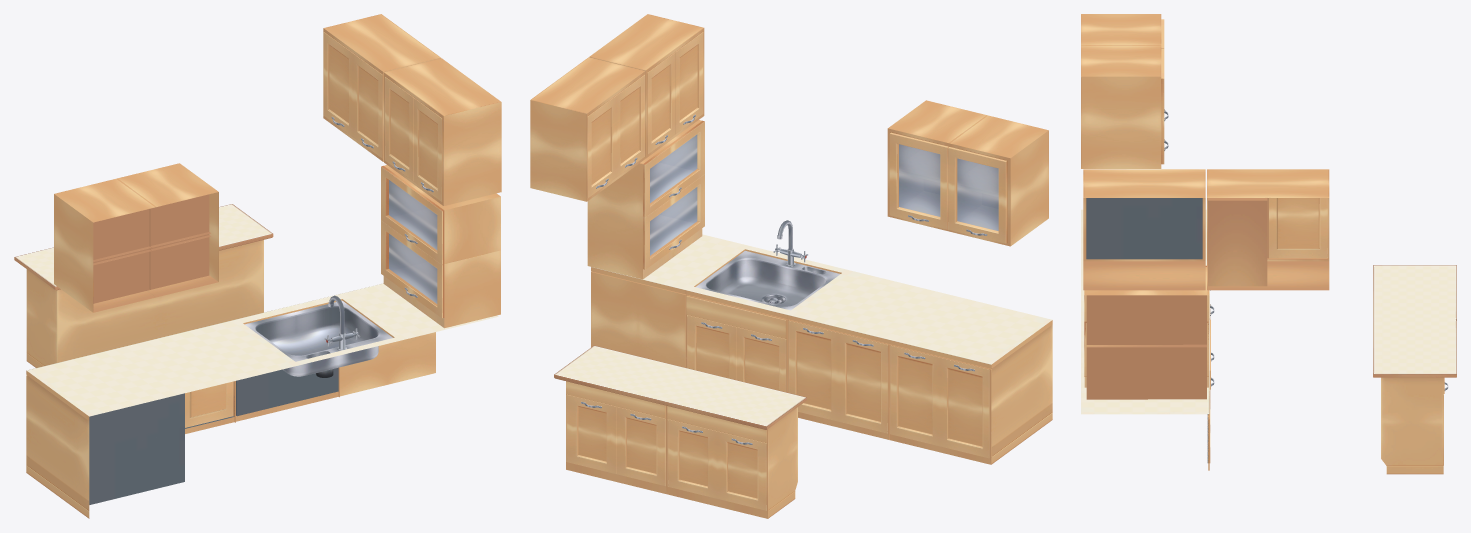
File: miside_kitchen.glb
3 renders of one model, left to right at view 1: azimuth 30°, elevation 25°; view 2: azimuth 150°, elevation 25°; view 3: azimuth 270°, elevation 25°, orthographic. The views are drawn at different scales.
Visible parts, largest first — view 1: Kitchen Headset, KitchenHeadset UpDoor2; view 2: Kitchen Headset, KitchenHeadset Door 1, KitchenHeadset UpDoor2; view 3: Kitchen Headset.
Part boxes in pixels (box(x1,y1,x2,y2)): Kitchen Headset: box(14, 14, 501, 518); KitchenHeadset UpDoor2: box(353, 53, 382, 158); Kitchen Headset: box(530, 14, 1052, 518); KitchenHeadset Door 1: box(890, 345, 939, 446); KitchenHeadset UpDoor2: box(616, 75, 644, 177); Kitchen Headset: box(1081, 14, 1456, 474).
Size of the model in its own units: 0.0397 by 0.029 by 0.0306.
2 materials, 2 textured.
